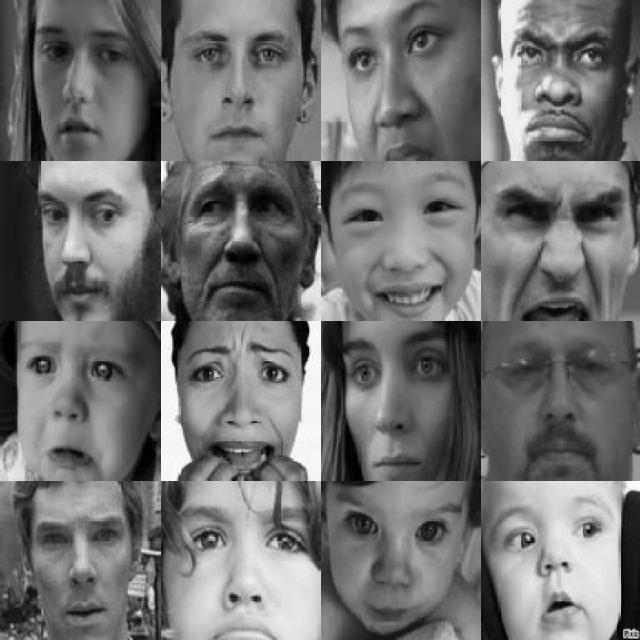angry: (478, 168, 640, 322), (334, 15, 468, 154), (495, 23, 629, 157)
fear: (168, 160, 316, 316), (168, 486, 314, 640), (19, 489, 142, 640), (334, 328, 458, 477), (499, 336, 630, 469), (22, 172, 146, 306)
happy: (324, 169, 478, 320)
neutral: (486, 486, 632, 640), (335, 481, 459, 640), (169, 8, 303, 151)
sad: (166, 330, 306, 473), (15, 330, 143, 476), (22, 7, 142, 149)
